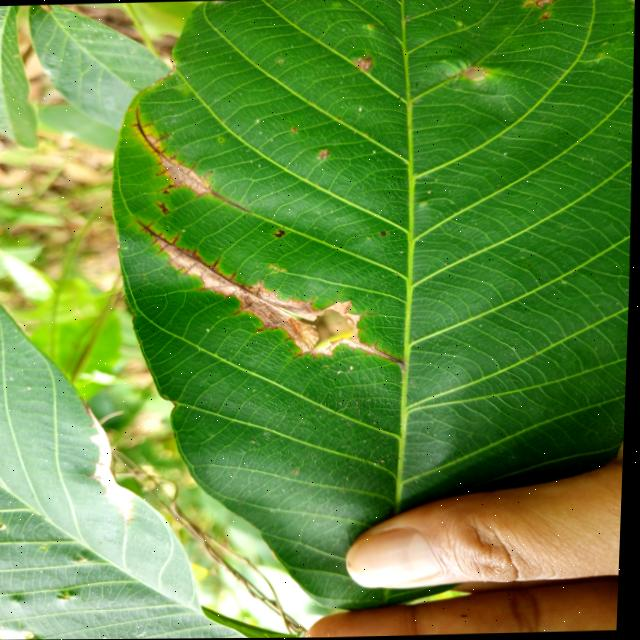Corynespora: (137, 215, 413, 374), (126, 103, 256, 216)
Leaf-Blight: (87, 402, 145, 522)
